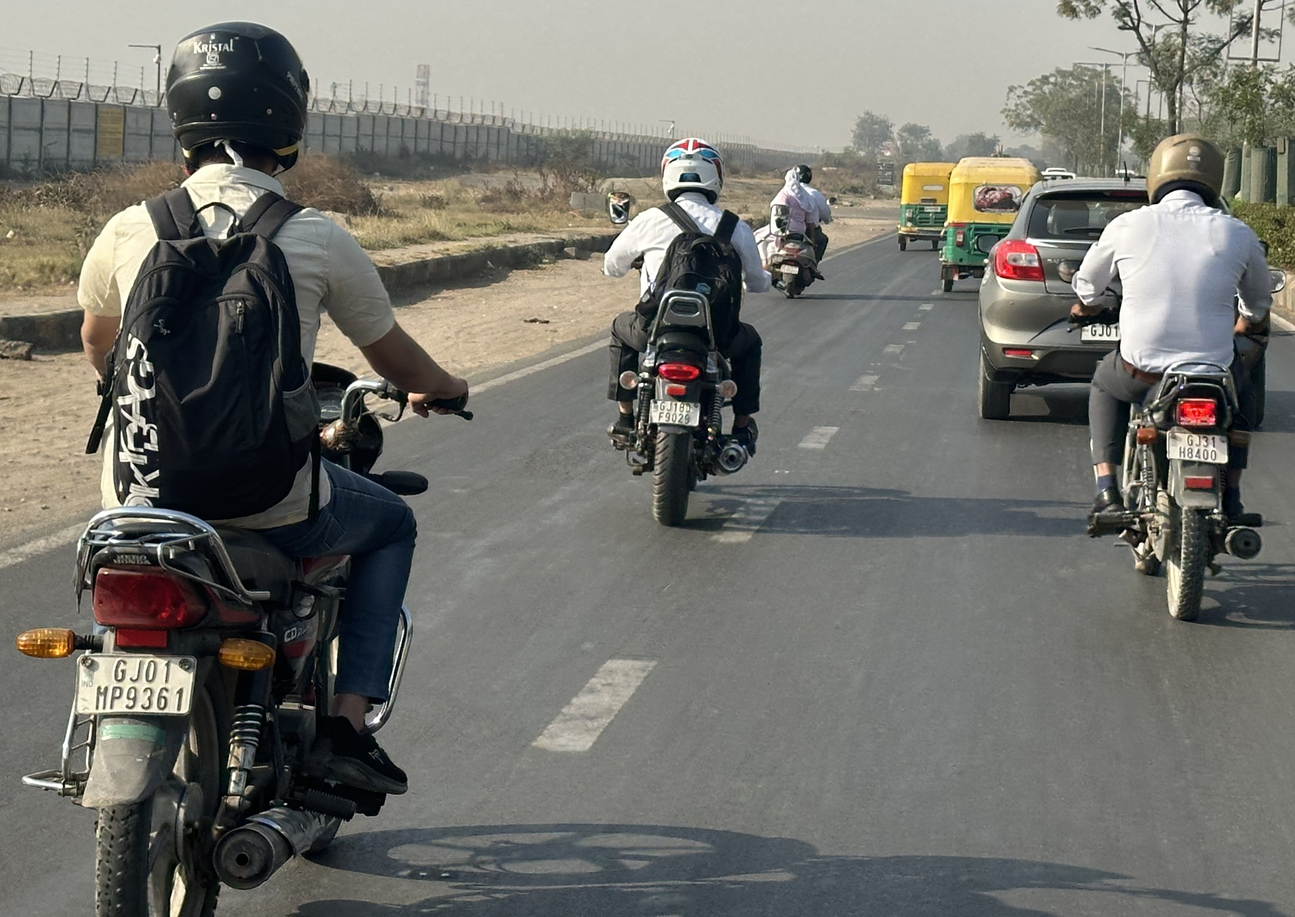BikeWithRider: (23, 0, 461, 917), (1056, 101, 1295, 643), (593, 132, 774, 541), (756, 150, 845, 300)
Helmet: (144, 17, 328, 180), (1132, 119, 1231, 213), (654, 134, 728, 206), (795, 164, 817, 186)
NoHelmet: (781, 166, 805, 186)
